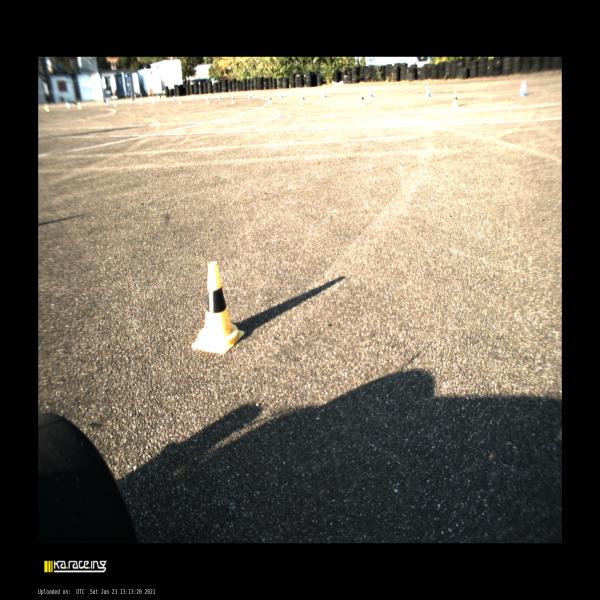blue_cone: (518, 80, 527, 96), (425, 85, 431, 98), (368, 88, 373, 97), (322, 88, 326, 98), (279, 91, 283, 98), (248, 92, 252, 98), (67, 103, 71, 109), (218, 94, 222, 99), (107, 100, 110, 106), (192, 94, 195, 100), (131, 98, 133, 104), (173, 96, 175, 101)
yellow_cone: (191, 262, 244, 354), (450, 91, 458, 107), (358, 92, 364, 106), (44, 103, 50, 111), (300, 95, 305, 104), (268, 94, 272, 103), (231, 95, 235, 104), (206, 96, 210, 103), (178, 97, 182, 104), (78, 102, 82, 109), (152, 98, 155, 104), (140, 99, 143, 105), (114, 101, 117, 106)
